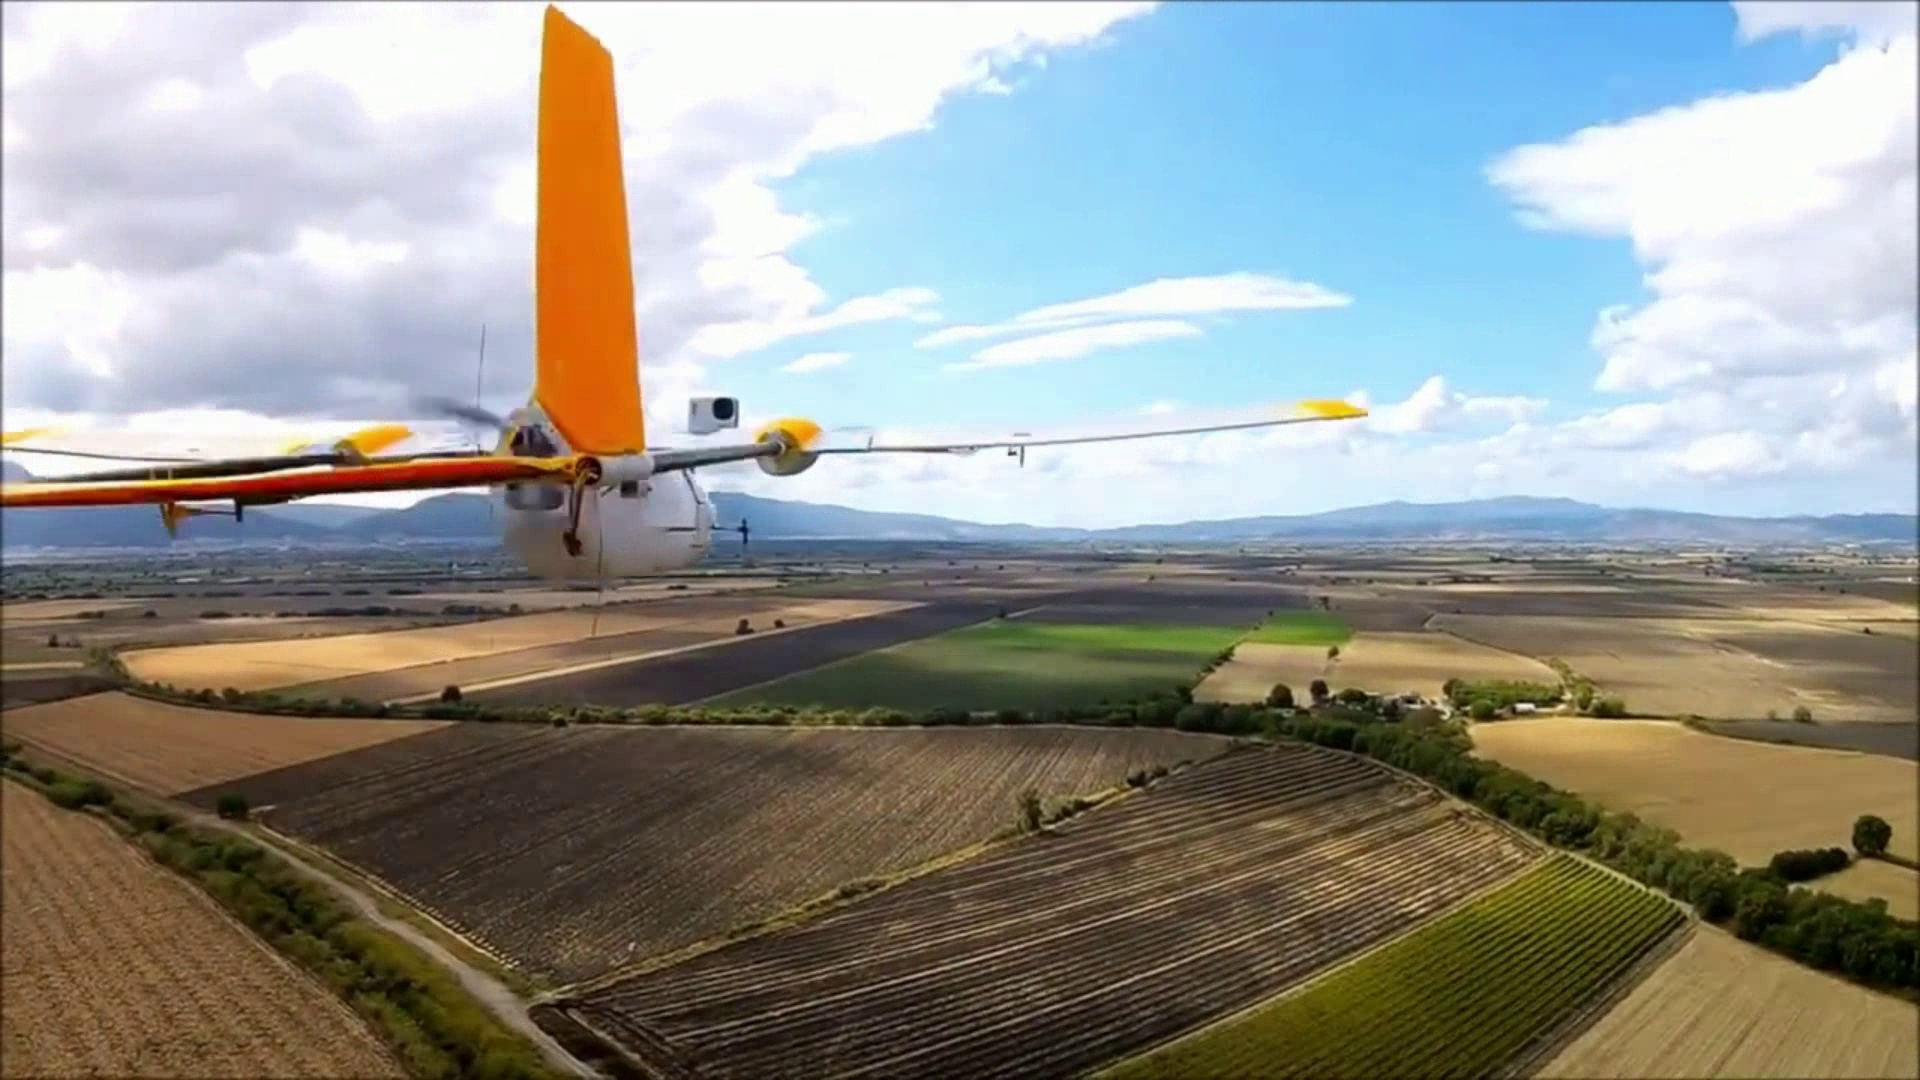airplane: (3, 9, 1367, 578)
